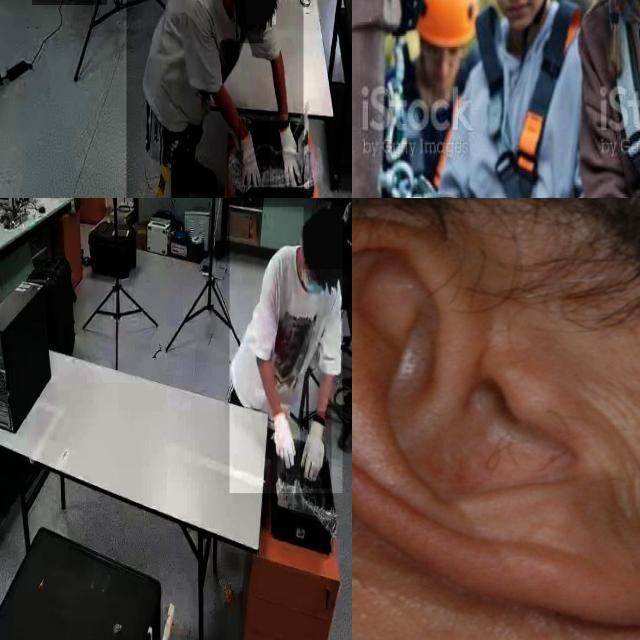Harness: (475, 0, 581, 198), (617, 14, 640, 186)
No_Ear-Protection: (352, 209, 640, 629)
face_mask: (236, 6, 264, 43)
hand_glove: (270, 114, 310, 190), (300, 412, 332, 489), (239, 119, 263, 197), (270, 407, 298, 468)
head_nohelmet: (304, 207, 344, 269), (245, 0, 276, 25)
person: (126, 0, 303, 198), (229, 207, 343, 494), (338, 198, 352, 262)
